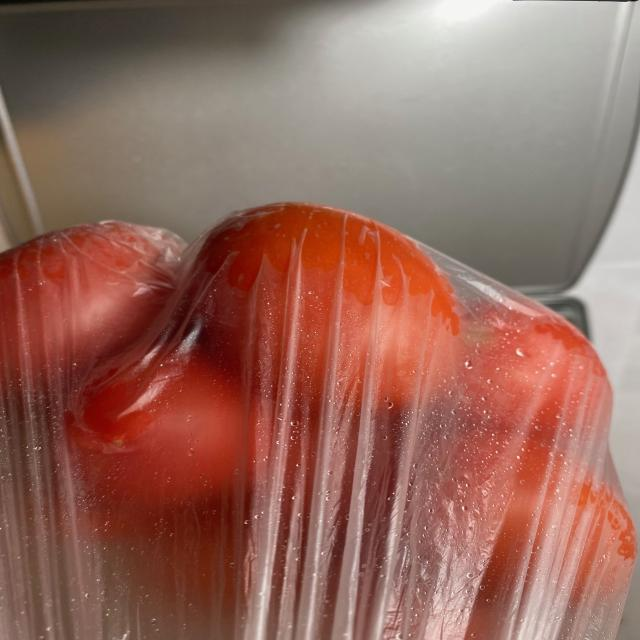tomato: (5, 207, 640, 619)
